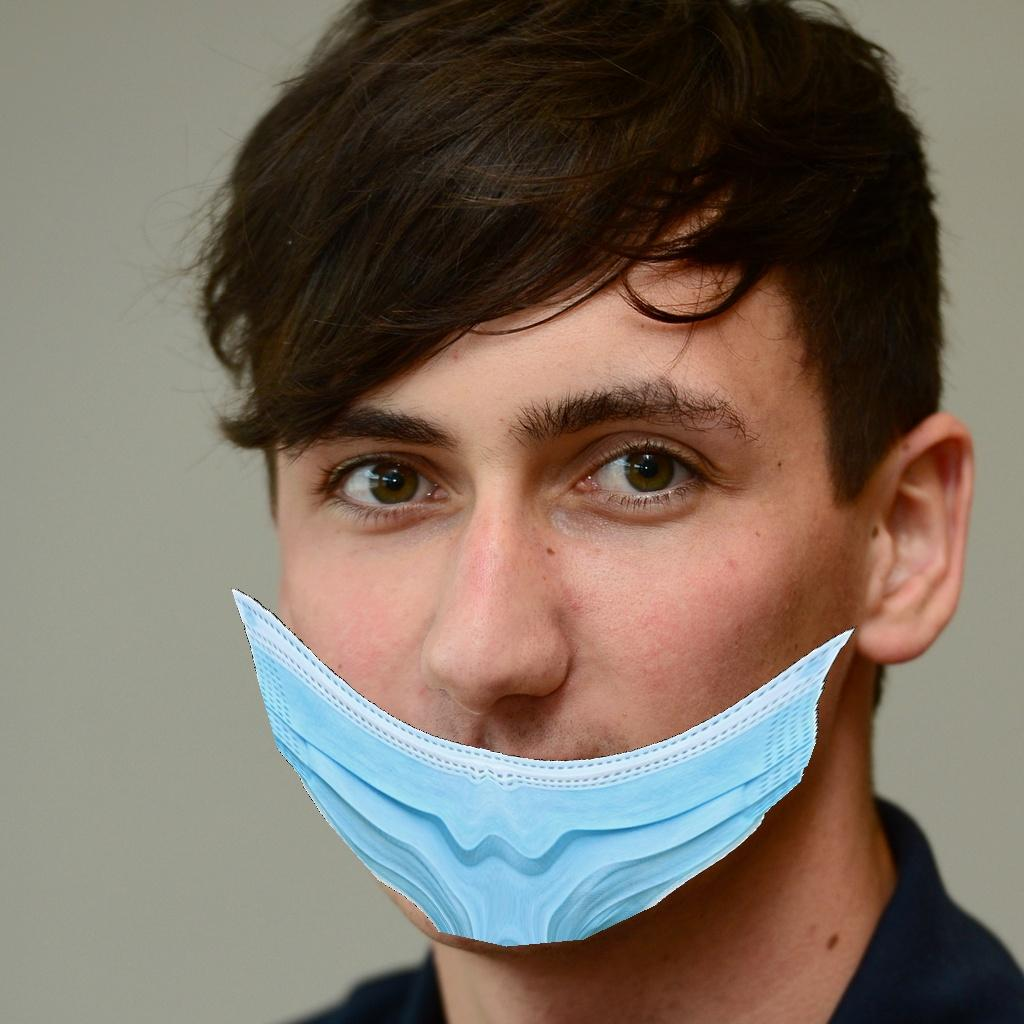Máscara Incorreta: (255, 278, 839, 946)
